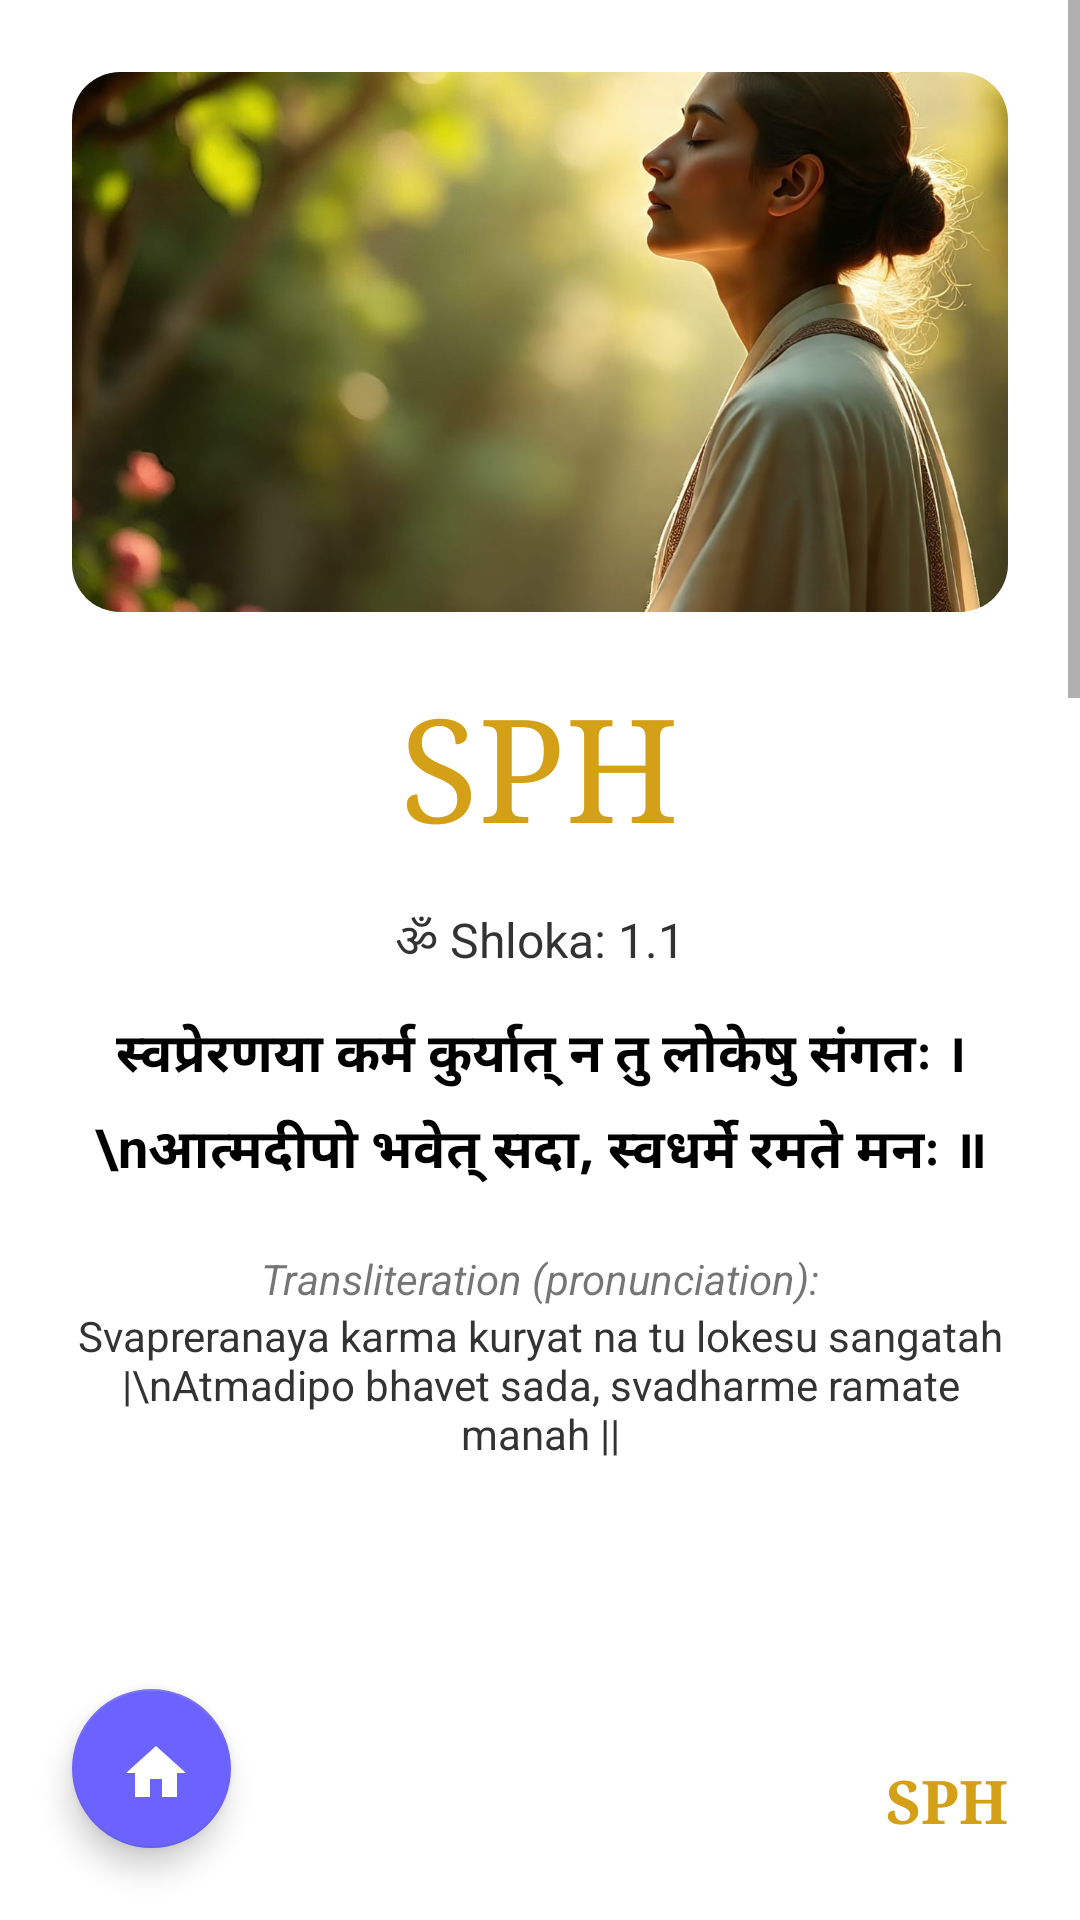

Icon click points for this 1080x1920 phone screenshot, format point (x, y):
home: point (151, 1768)
